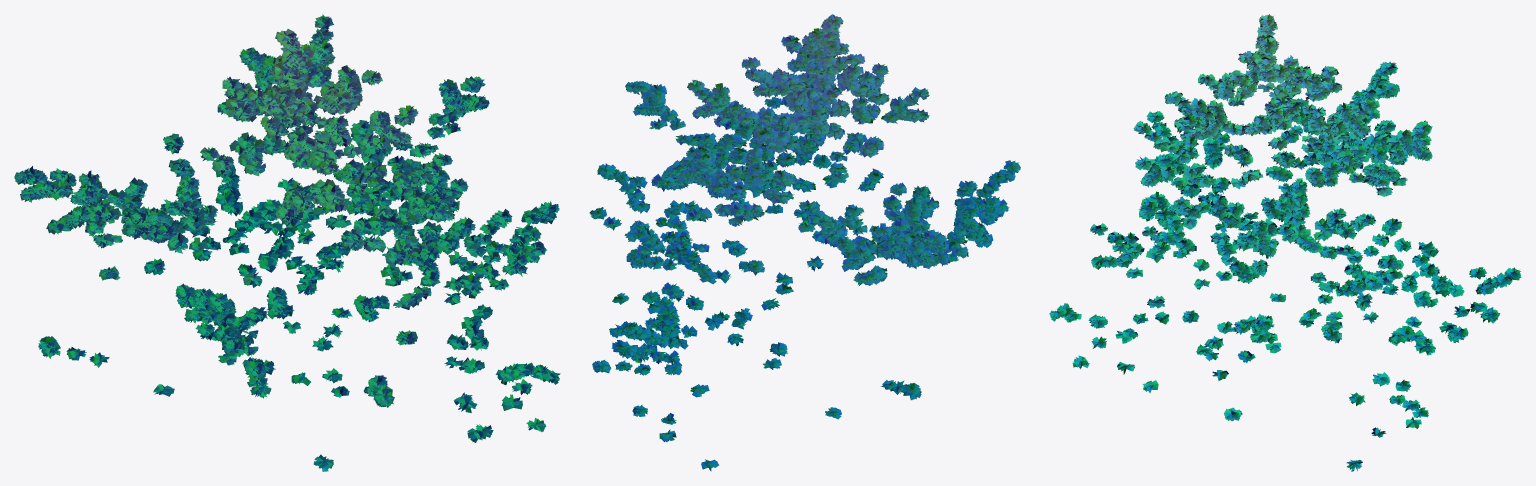
The model's file is canopy03_lod1.fbx.
The picture shows the model from 3 angles, left to right: view 1: azimuth 30°, elevation 25°; view 2: azimuth 150°, elevation 25°; view 3: azimuth 270°, elevation 25°; orthographic projection. The views are drawn at different scales.
Parts seen in each view (by area): view 1: Foliage.001; view 2: Foliage.001; view 3: Foliage.001.
Boxes of the visible parts, left/top/right/bottom form: Foliage.001: left=14, top=14, right=560, bottom=471; Foliage.001: left=589, top=14, right=1020, bottom=471; Foliage.001: left=1049, top=14, right=1521, bottom=471.
Bounding box in the file's own units: 39012 × 40662 × 39790.
